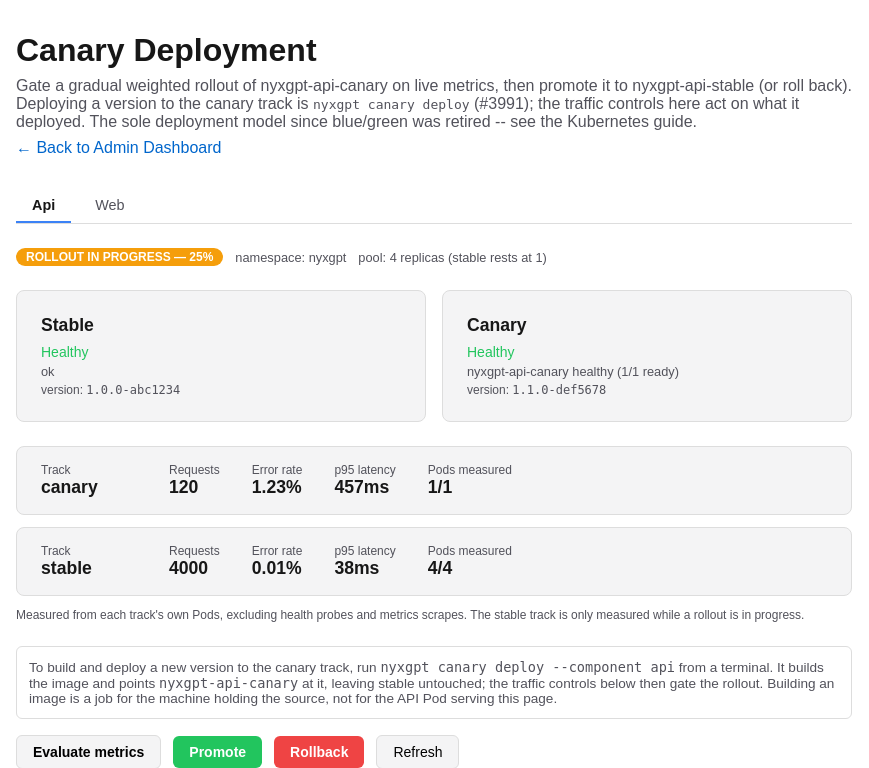
Test: CanaryPage › evaluates, promotes, and rolls back an active canary, honoring declined confirmations
Click the button "Evaluate metrics" at (89, 752), box [16, 735, 161, 767]
(page scrolled)
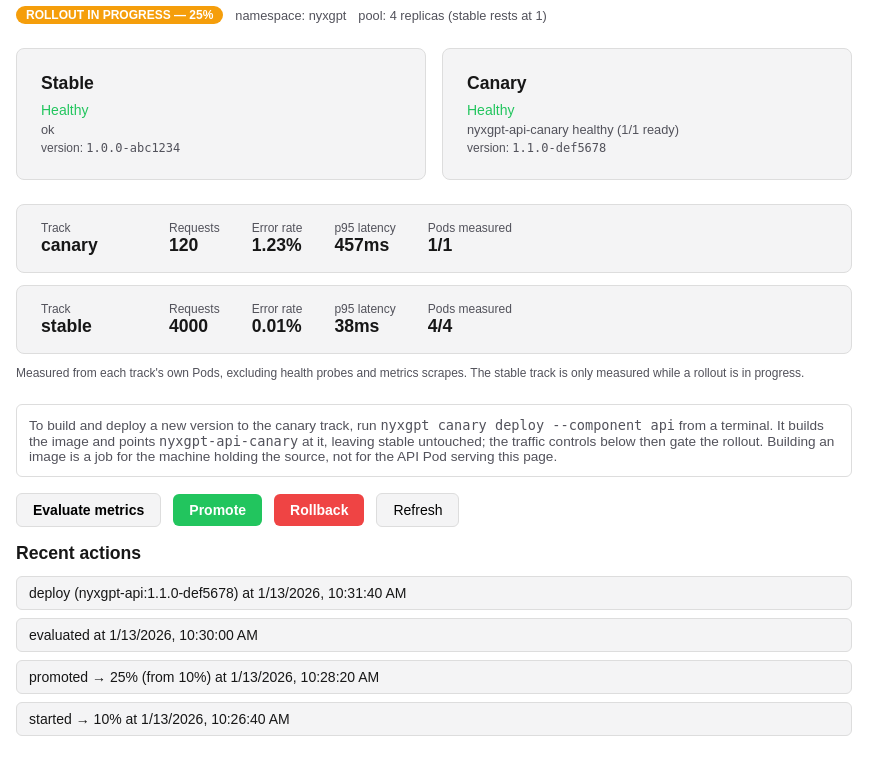
Click the button "Promote" at (218, 510), box [173, 494, 262, 526]
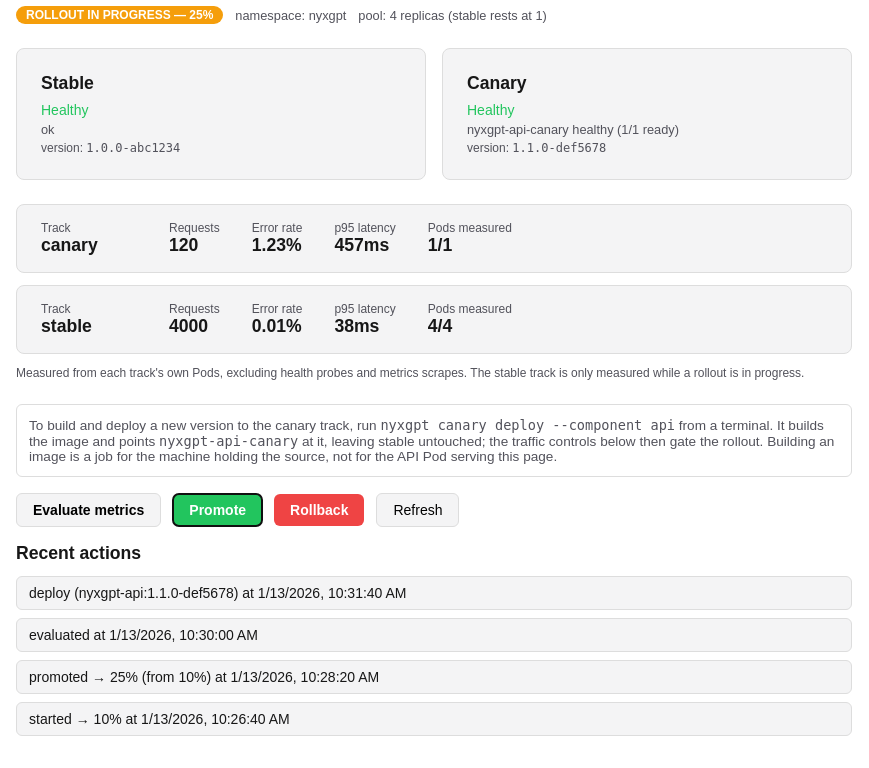
Declined rollback confirmation
Click the button "Rollback" at (319, 510), box [274, 494, 364, 526]
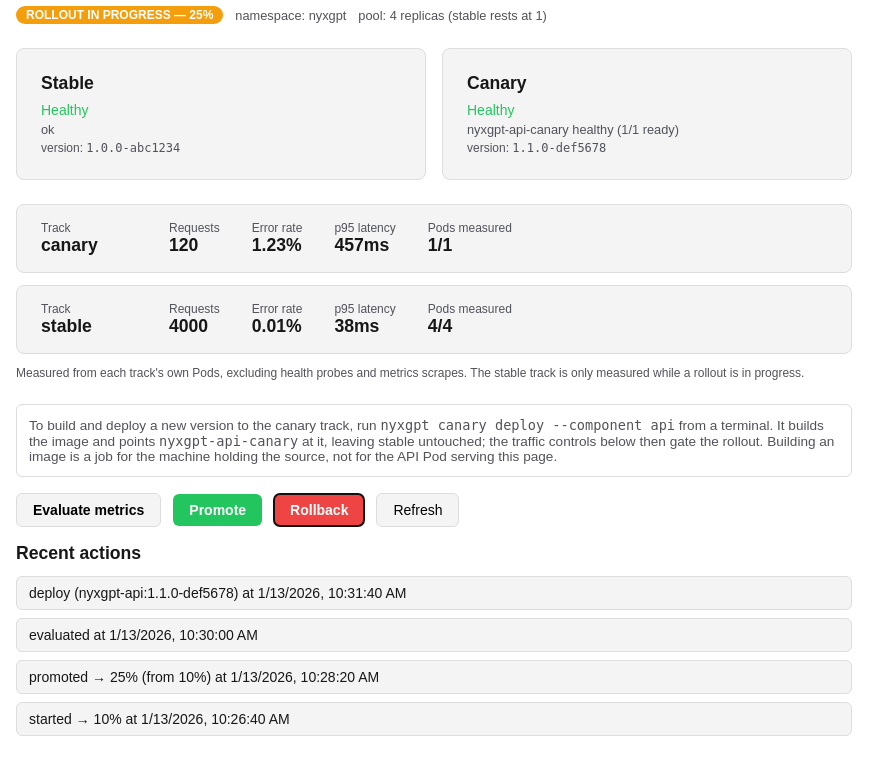
Click the button "Promote" at (218, 510), box [173, 494, 262, 526]
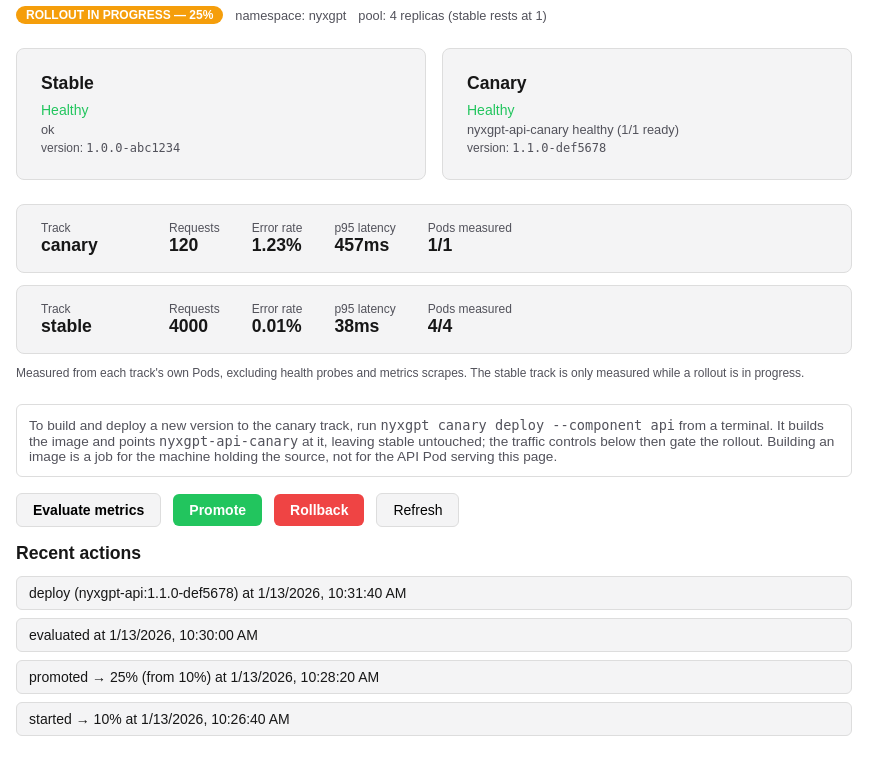
Click the button "Rollback" at (319, 510), box [274, 494, 364, 526]
(page scrolled)
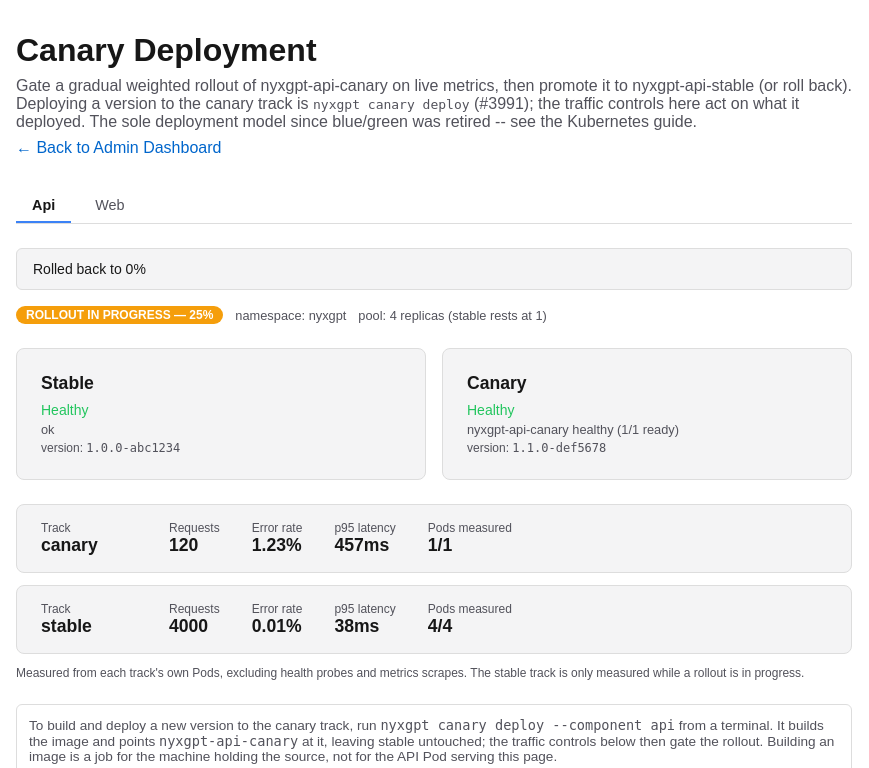
Now the text "Rolled back to 0%" is shown, box [16, 248, 852, 290]
